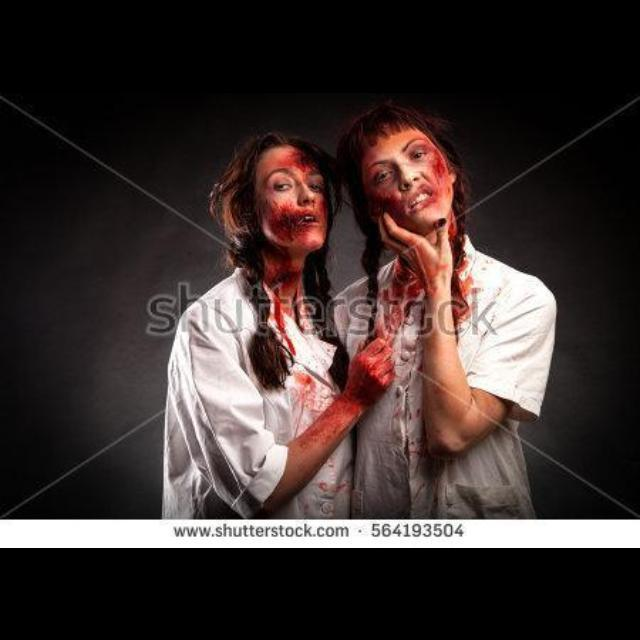blood: (363, 128, 472, 337), (256, 145, 329, 353), (289, 338, 395, 449), (391, 378, 445, 519), (297, 435, 354, 519), (289, 369, 338, 435)
